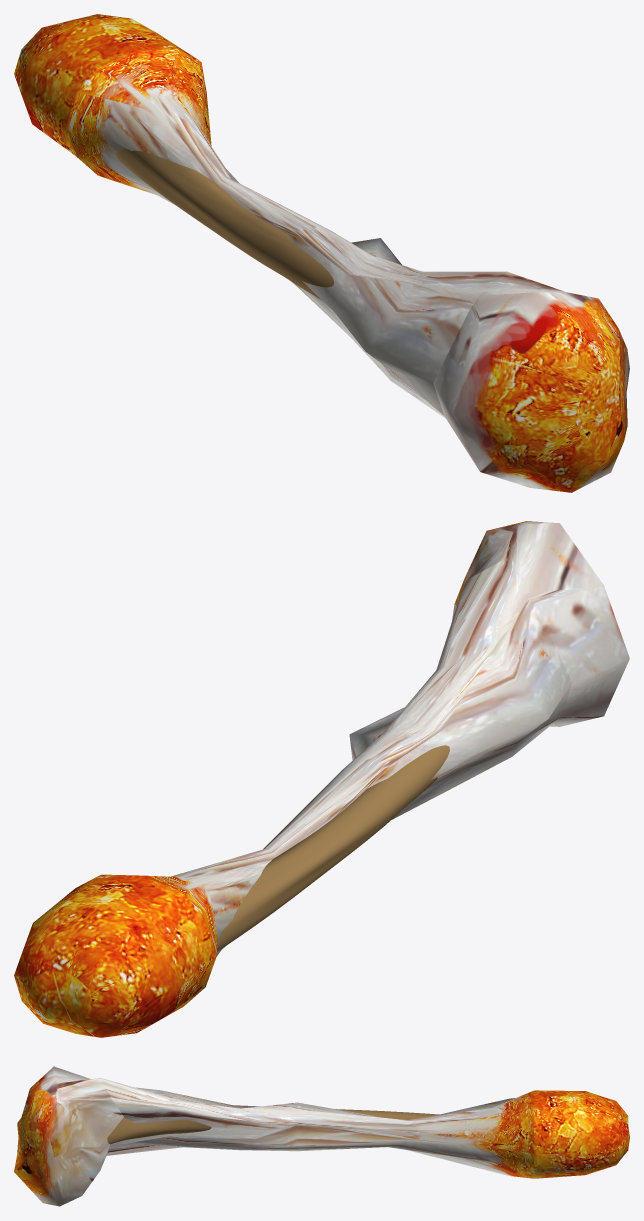
File: FriedChicken_eat02.FBX
3 views of the same model, one above another, from view 1: azimuth 30°, elevation 25°; view 2: azimuth 150°, elevation 25°; view 3: azimuth 270°, elevation 25° (orthographic). The views are drawn at different scales.
Visible parts, largest first — view 1: Chicken, bone; view 2: Chicken, bone; view 3: Chicken, bone.
Boxes of the visible parts, box(x1,y1,x2,y2) form: Chicken: box(14, 14, 629, 492); bone: box(116, 148, 333, 300); Chicken: box(14, 521, 629, 1037); bone: box(217, 745, 449, 951); Chicken: box(14, 1066, 629, 1206); bone: box(107, 1109, 438, 1144).
Size of the model in its own units: 6.92 by 7.4 by 34.28.
Materials: 2 (1 with a texture image).
